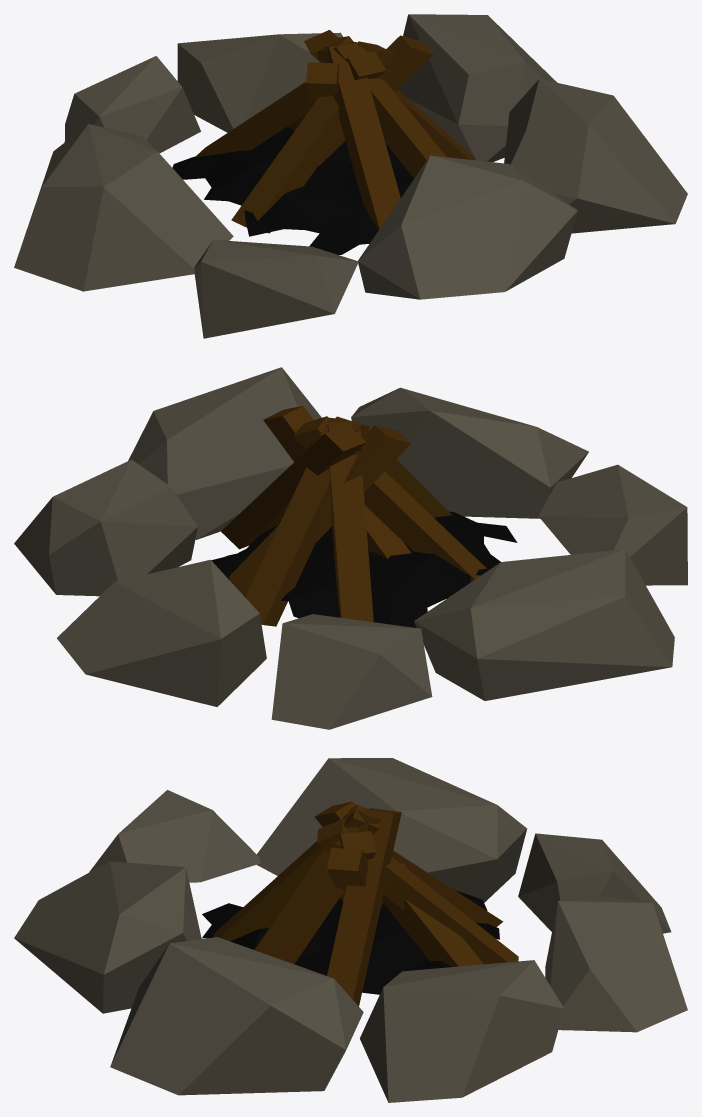
File: campfire.fbx
3 views of the same model, one above another, from view 1: azimuth 30°, elevation 25°; view 2: azimuth 150°, elevation 25°; view 3: azimuth 270°, elevation 25° (orthographic). The views are drawn at different scales.
Visible parts, largest first — view 1: rocks, wood, ash; view 2: rocks, wood, ash; view 3: rocks, wood, ash.
Boxes of the visible parts, x1=… form: rocks: x1=14, y1=14, x2=687, y2=338; wood: x1=196, y1=30, x2=475, y2=233; ash: x1=172, y1=126, x2=414, y2=254; rocks: x1=14, y1=367, x2=687, y2=729; wood: x1=221, y1=406, x2=486, y2=626; ash: x1=211, y1=511, x2=517, y2=627; rocks: x1=14, y1=758, x2=687, y2=1102; wood: x1=213, y1=801, x2=518, y2=1006; ash: x1=202, y1=890, x2=499, y2=994.
Bounding box in the file's own units: 371 × 102 × 356.
